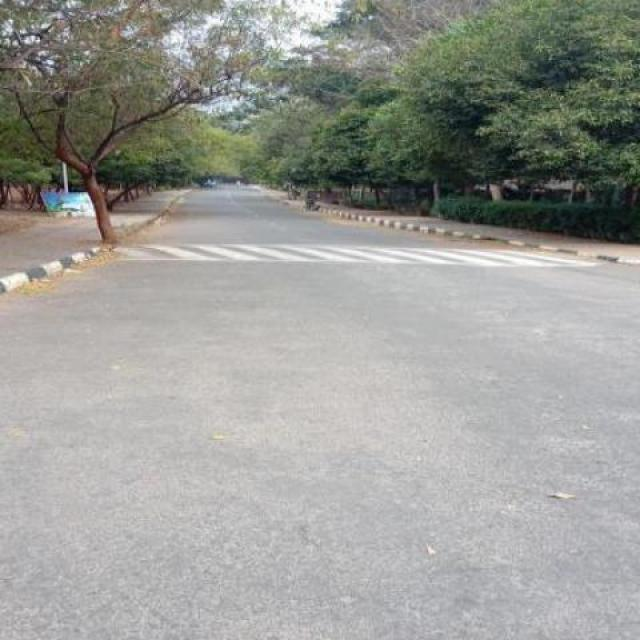Speed Bump: (97, 240, 602, 268)
